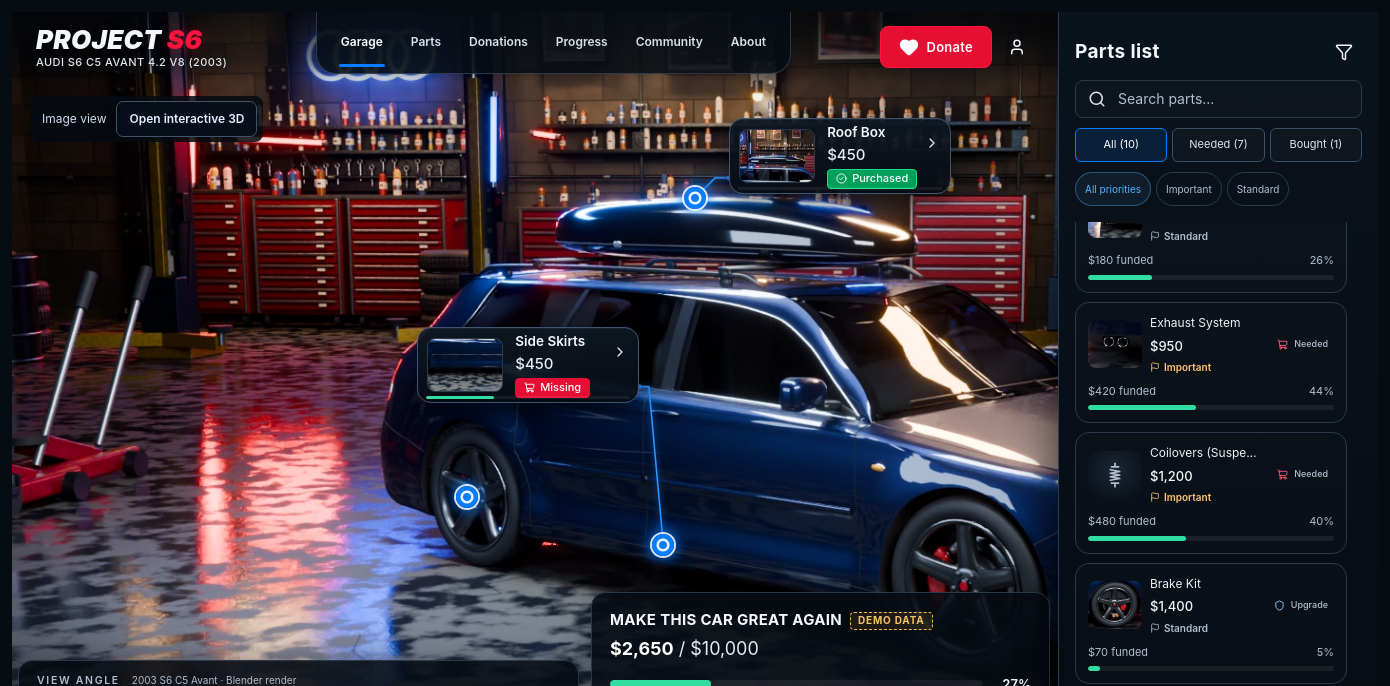
Test: garage image fallback dashboard (demo mode) › a part with no available view keeps the camera and explains why there is no dot
(page scrolled)
Click the button that starts with "Coilovers (Suspension)".
click(1211, 493)  # box top-left (1075, 432), bottom-right (1347, 554)
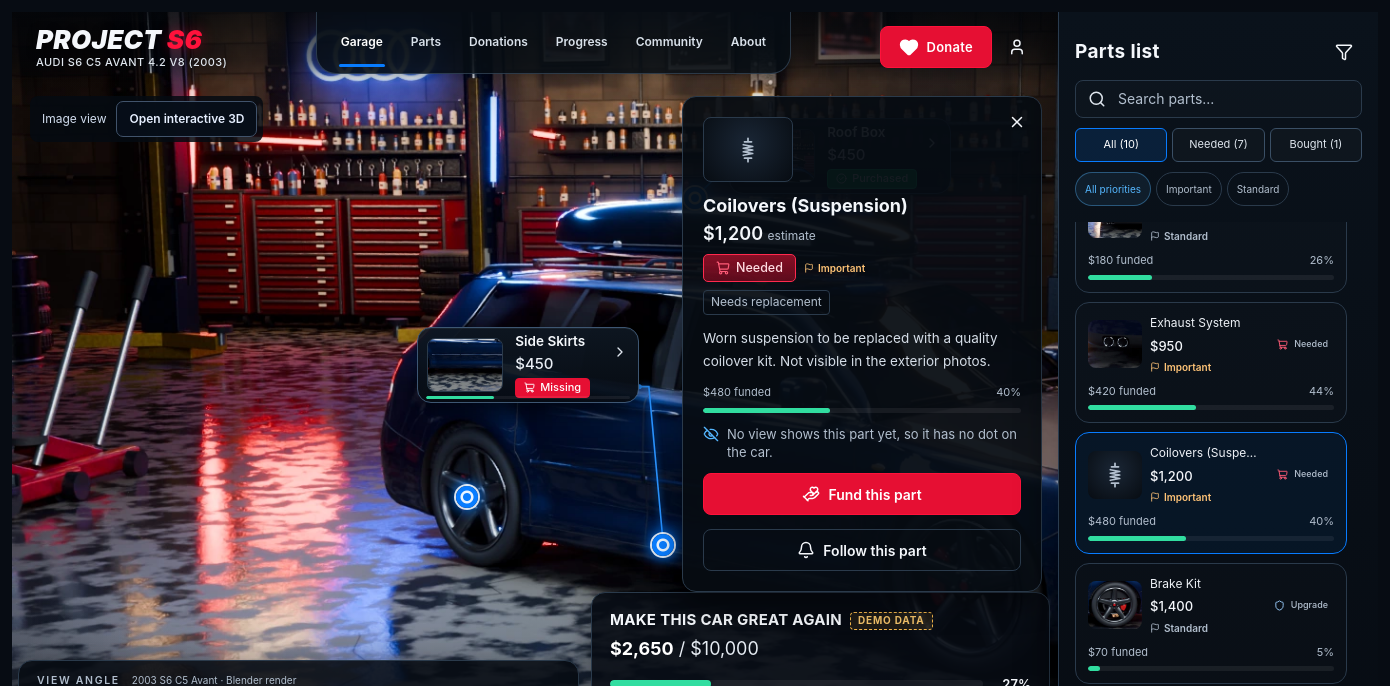
Expected: the text "No view shows this part yet, so it has no dot on the car." is shown, top-left (703, 425), bottom-right (1021, 461)
